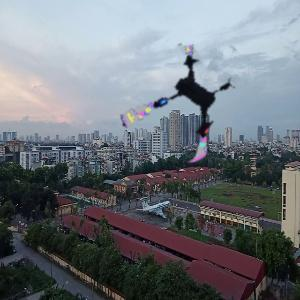drone: (122, 47, 247, 172)
